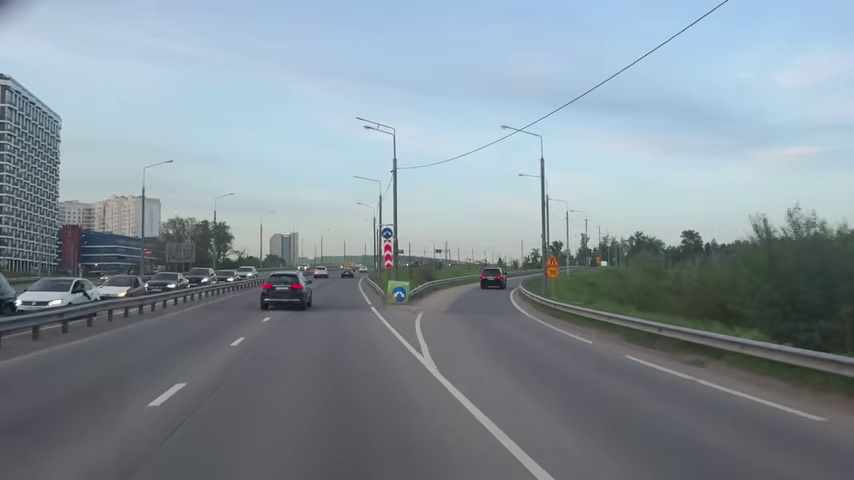apagada: (355, 115, 378, 136), (160, 157, 175, 169)
